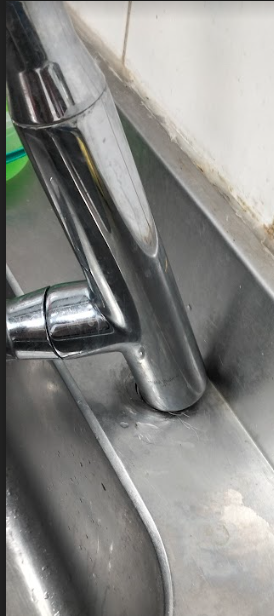Deck Faucet: (1, 1, 218, 419)
